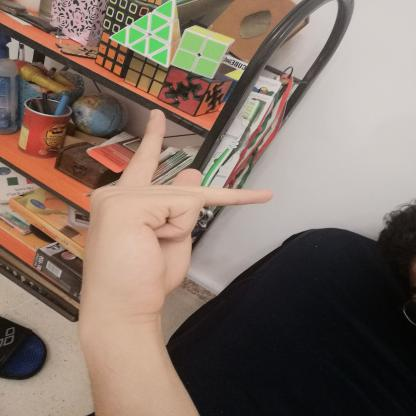DHAA: (68, 99, 285, 340)
